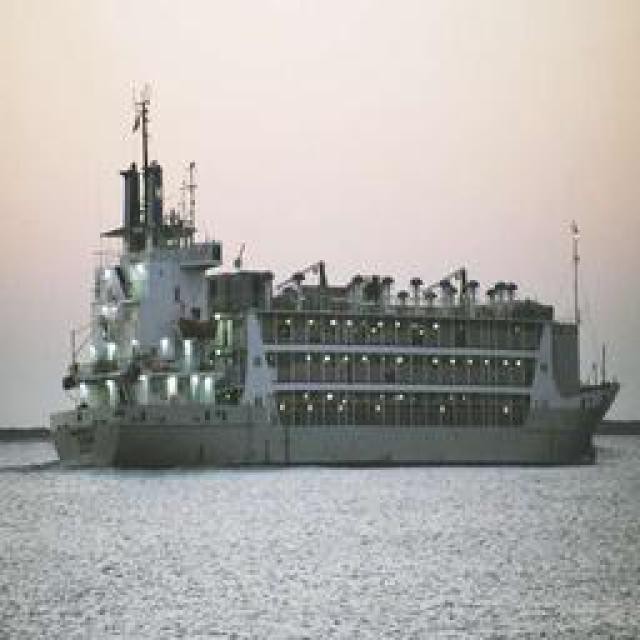Ship: (33, 166, 621, 469)
